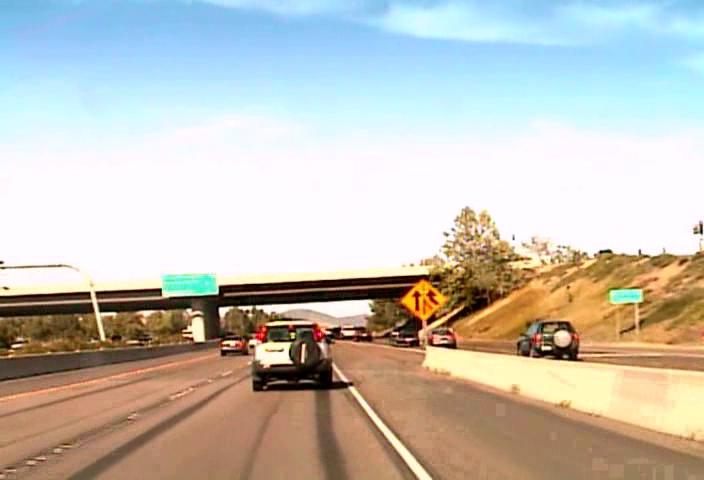addedLane: (398, 279, 447, 320)
